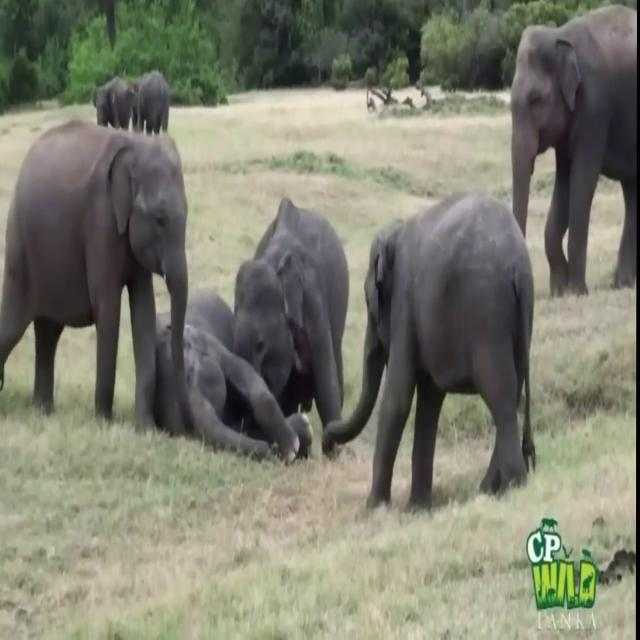Elephant: (322, 189, 536, 514), (0, 117, 190, 435), (510, 3, 638, 297), (232, 196, 350, 460), (93, 75, 137, 132), (134, 70, 170, 134)
